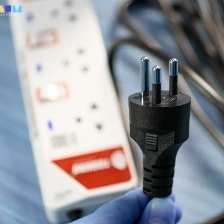three_eye_plug: (2, 0, 145, 224)
